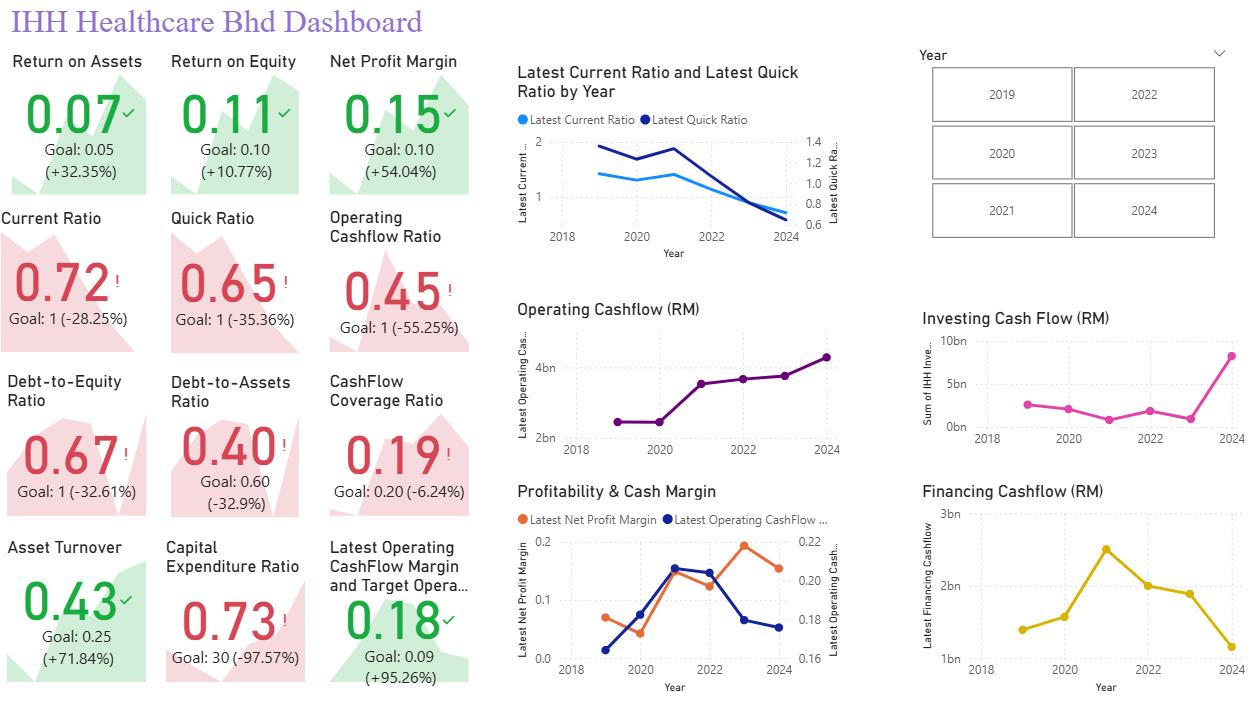

The dashboard page shown, as its layout file describes it:
{"tool":"powerbi","page":{"name":"IHH Healthcare Bhd Dashboard","canvas":[1280,720],"ordinal":6},"visuals":[{"type":"textbox","box":[9.8,0,439,63.6],"z":0},{"type":"kpi","title":"Return on Assets","fields":{"TrendLine":["IHH Final Datasets (Sheet1).Year"],"Goal":["IHH Final Datasets (Sheet1).Target ROA >"],"Indicator":["IHH Final Datasets (Sheet1).Latest ROA"]},"box":[11,52.6,144.3,149.2],"z":1000},{"type":"kpi","title":"Return on Equity","fields":{"Indicator":["IHH Final Datasets (Sheet1).Latest ROE"],"TrendLine":["IHH Final Datasets (Sheet1).Year"],"Goal":["IHH Final Datasets (Sheet1).Target ROE >"]},"box":[170,52.6,138.2,149.2],"z":2000},{"type":"kpi","title":" Net Profit Margin","fields":{"TrendLine":["IHH Final Datasets (Sheet1).Year"],"Goal":["IHH Final Datasets (Sheet1).Target Net Profit Margin >"],"Indicator":["IHH Final Datasets (Sheet1).Latest Net Profit Margin"]},"box":[328.9,52.6,149.2,149.2],"z":3000},{"type":"kpi","title":" Current Ratio ","fields":{"Goal":["IHH Final Datasets (Sheet1).Target Current Ratio >"],"TrendLine":["IHH Final Datasets (Sheet1).Year"],"Indicator":["IHH Final Datasets (Sheet1).Latest Current Ratio"]},"box":[0,210.3,144.3,149.2],"z":4000},{"type":"kpi","title":" Quick Ratio","fields":{"Goal":["IHH Final Datasets (Sheet1).Target Quick Ratio >"],"TrendLine":["IHH Final Datasets (Sheet1).Year"],"Indicator":["IHH Final Datasets (Sheet1).Latest Quick Ratio"]},"box":[170,210.3,138.2,150.4],"z":5000},{"type":"kpi","title":"Operating Cashflow Ratio ","fields":{"TrendLine":["IHH Final Datasets (Sheet1).Year"],"Goal":["IHH Final Datasets (Sheet1).Target Operating Cashflow Ratio >"],"Indicator":["IHH Final Datasets (Sheet1).Latest Operating CashFlow Ratio"]},"box":[328.9,209.1,149.2,150.4],"z":6000},{"type":"kpi","title":" Debt-to-Equity Ratio","fields":{"Goal":["IHH Final Datasets (Sheet1).Target Debt-to-Equity Ratio <"],"TrendLine":["IHH Final Datasets (Sheet1).Year"],"Indicator":["IHH Final Datasets (Sheet1).Latest Debt-to-Equity Ratio"]},"box":[6.1,373,149.2,150.4],"z":7000},{"type":"kpi","title":"Debt-to-Assets Ratio","fields":{"Goal":["IHH Final Datasets (Sheet1).Target Debt-to-Asset Ratio <"],"TrendLine":["IHH Final Datasets (Sheet1).Year"],"Indicator":["IHH Final Datasets (Sheet1).Latest Debt-to-Assets Ratio"]},"box":[170,374.2,138.2,150.4],"z":8000},{"type":"kpi","title":"CashFlow Coverage Ratio","fields":{"TrendLine":["IHH Final Datasets (Sheet1).Year"],"Goal":["IHH Final Datasets (Sheet1).Target Cashflow Coverage Ratio >"],"Indicator":["IHH Final Datasets (Sheet1).Latest CashFlow Coverage Ratio"]},"box":[328.9,373,149.2,150.4],"z":9000},{"type":"kpi","title":"Asset Turnover","fields":{"TrendLine":["IHH Final Datasets (Sheet1).Year"],"Goal":["IHH Final Datasets (Sheet1).Target Asset Turnover"],"Indicator":["IHH Final Datasets (Sheet1).Latest Asset Turnover"]},"box":[6.1,539.3,149.2,150.4],"z":10000},{"type":"kpi","title":"Capital Expenditure Ratio","fields":{"TrendLine":["IHH Final Datasets (Sheet1).Year"],"Goal":["IHH Final Datasets (Sheet1).Target Capital Expenditure Ratio"],"Indicator":["IHH Final Datasets (Sheet1).Latest Capital Expenditure Ratio"]},"box":[165.1,539.3,149.2,150.4],"z":11000},{"type":"kpi","fields":{"TrendLine":["IHH Final Datasets (Sheet1).Year"],"Indicator":["IHH Final Datasets (Sheet1).Latest Operating CashFlow Margin"],"Goal":["IHH Final Datasets (Sheet1).Target Operating Cashflow Margin"]},"box":[328.9,539.3,149.2,150.4],"z":12000},{"type":"lineChart","title":"Profitability & Cash Margin","fields":{"Category":["IHH Final Datasets (Sheet1).Year"],"Y2":["IHH Final Datasets (Sheet1).Latest Operating CashFlow Margin"],"Y":["IHH Final Datasets (Sheet1).Latest Net Profit Margin"]},"box":[516,483,332.6,217.7],"z":13000},{"type":"lineChart","title":"Operating Cashflow (RM)","fields":{"Y":["IHH Final Datasets (Sheet1).Latest Operating Cashflow (RM)"],"Category":["IHH Final Datasets (Sheet1).Year"]},"box":[516,300.8,332.6,168.8],"z":14000},{"type":"lineChart","title":" Financing Cashflow (RM)","fields":{"Category":["IHH Final Datasets (Sheet1).Year"],"Y":["IHH Final Datasets (Sheet1).Latest Financing Cashflow"]},"box":[920.8,483,332.6,217.7],"z":15000},{"type":"lineChart","title":"Investing Cash Flow (RM)","fields":{"Category":["IHH Final Datasets (Sheet1).Year"],"Y":["Sum(IHH Final Datasets (Sheet1).IHH Investing Cash Flow (RM))"]},"box":[920.8,310.6,332.6,149.2],"z":16000},{"type":"lineChart","fields":{"Category":["IHH Final Datasets (Sheet1).Year"],"Y2":["IHH Final Datasets (Sheet1).Latest Quick Ratio"],"Y":["IHH Final Datasets (Sheet1).Latest Current Ratio"]},"box":[516,63.6,332.6,203],"z":17000},{"type":"slicer","fields":{"Values":["IHH Final Datasets (Sheet1).Year"]},"box":[909.8,44,332.6,203],"z":18000}]}

Visuals, with their boxes in screenshot pixels (x1, y1, x2, y2), scaled from the page's 1280x720 canvas onto the 1257x708 screenshot:
textbox: select_region(10, 0, 441, 63)
"Return on Assets" kpi: select_region(11, 52, 153, 198)
"Return on Equity" kpi: select_region(167, 52, 303, 198)
" Net Profit Margin" kpi: select_region(323, 52, 470, 198)
" Current Ratio " kpi: select_region(0, 207, 142, 354)
" Quick Ratio" kpi: select_region(167, 207, 303, 355)
"Operating Cashflow Ratio " kpi: select_region(323, 206, 470, 354)
" Debt-to-Equity Ratio" kpi: select_region(6, 367, 153, 515)
"Debt-to-Assets Ratio" kpi: select_region(167, 368, 303, 516)
"CashFlow Coverage Ratio" kpi: select_region(323, 367, 470, 515)
"Asset Turnover" kpi: select_region(6, 530, 153, 678)
"Capital Expenditure Ratio" kpi: select_region(162, 530, 309, 678)
kpi - IHH Final Datasets (Sheet1).Year x IHH Final Datasets (Sheet1).Latest Operating CashFlow Margin: select_region(323, 530, 470, 678)
"Profitability & Cash Margin" lineChart: select_region(507, 475, 833, 689)
"Operating Cashflow (RM)" lineChart: select_region(507, 296, 833, 462)
" Financing Cashflow (RM)" lineChart: select_region(904, 475, 1231, 689)
"Investing Cash Flow (RM)" lineChart: select_region(904, 305, 1231, 452)
lineChart - IHH Final Datasets (Sheet1).Year x IHH Final Datasets (Sheet1).Latest Quick Ratio: select_region(507, 63, 833, 262)
slicer - IHH Final Datasets (Sheet1).Year: select_region(893, 43, 1220, 243)
